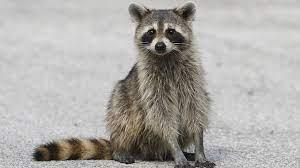raccoon: (28, 0, 220, 168)
